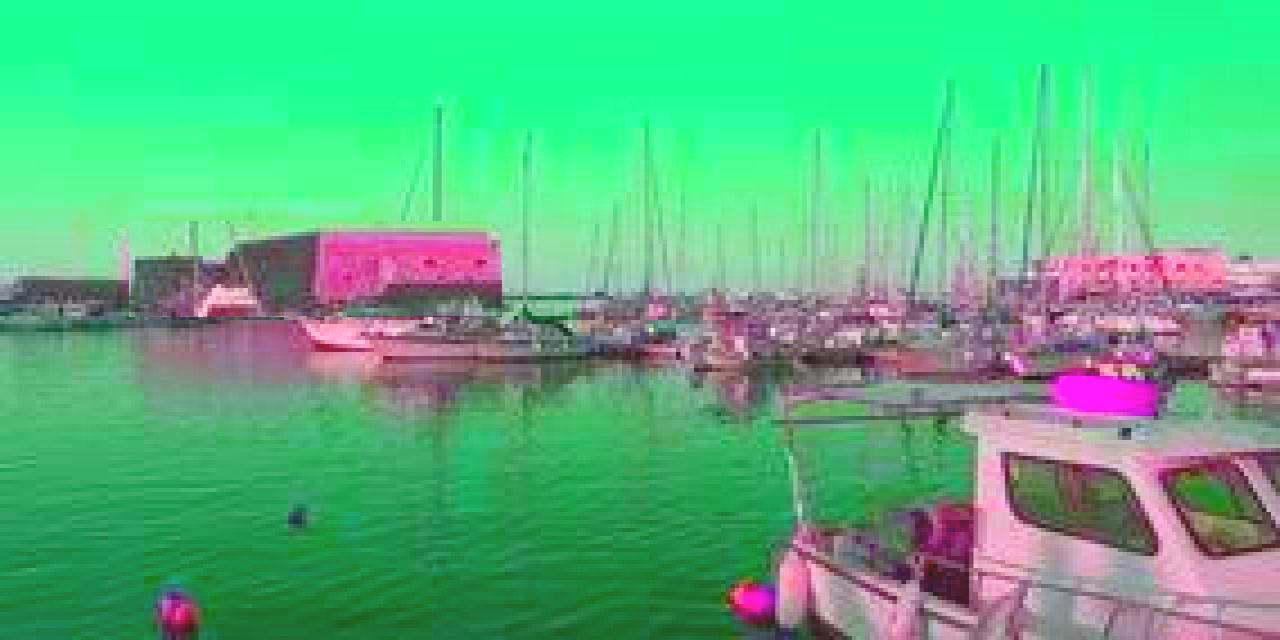Kules: (130, 222, 503, 318)
